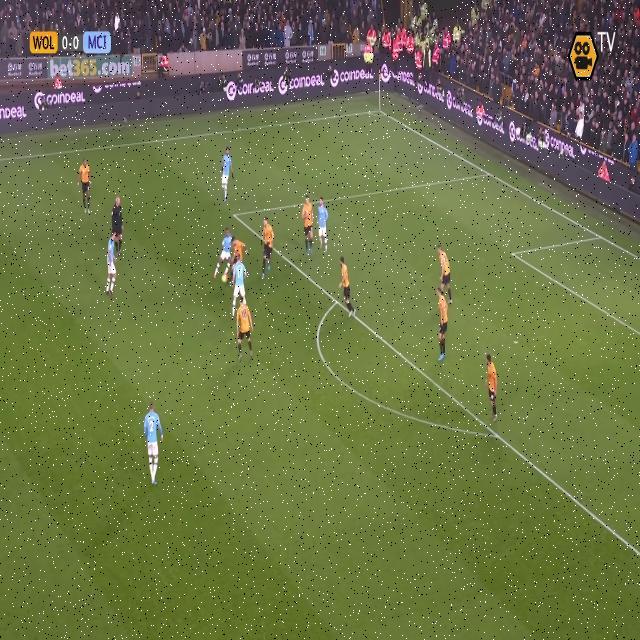Ball: (221, 274, 228, 286)
TEAM 1: (236, 300, 256, 365), (434, 287, 448, 365), (260, 217, 275, 280), (486, 354, 500, 421), (339, 254, 352, 314), (80, 158, 93, 216), (303, 197, 315, 257), (232, 234, 244, 262)
TEAM 2: (144, 402, 166, 488), (210, 228, 234, 285), (231, 252, 248, 320), (103, 227, 118, 298), (314, 199, 328, 252), (222, 145, 234, 201)
